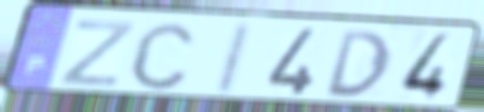4: (395, 30, 457, 105), (261, 26, 320, 98)
C: (126, 19, 199, 93)
D: (324, 28, 393, 99)
I: (209, 20, 256, 98)
Z: (55, 18, 138, 89)
